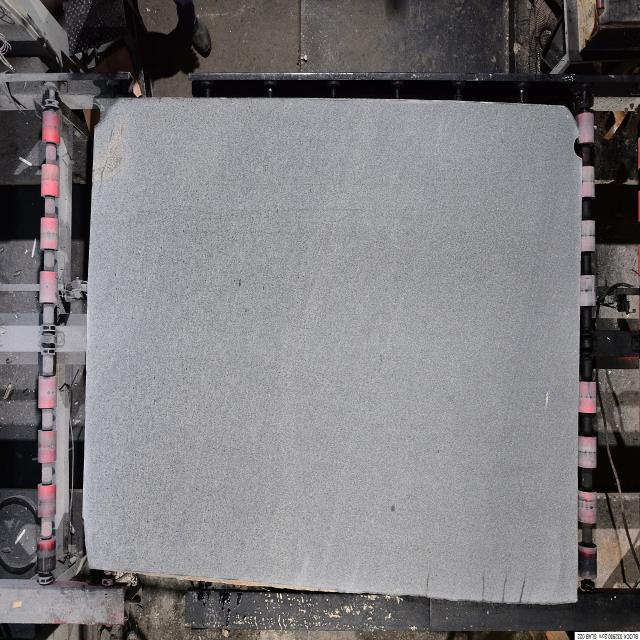chapa: (84, 98, 581, 602)
